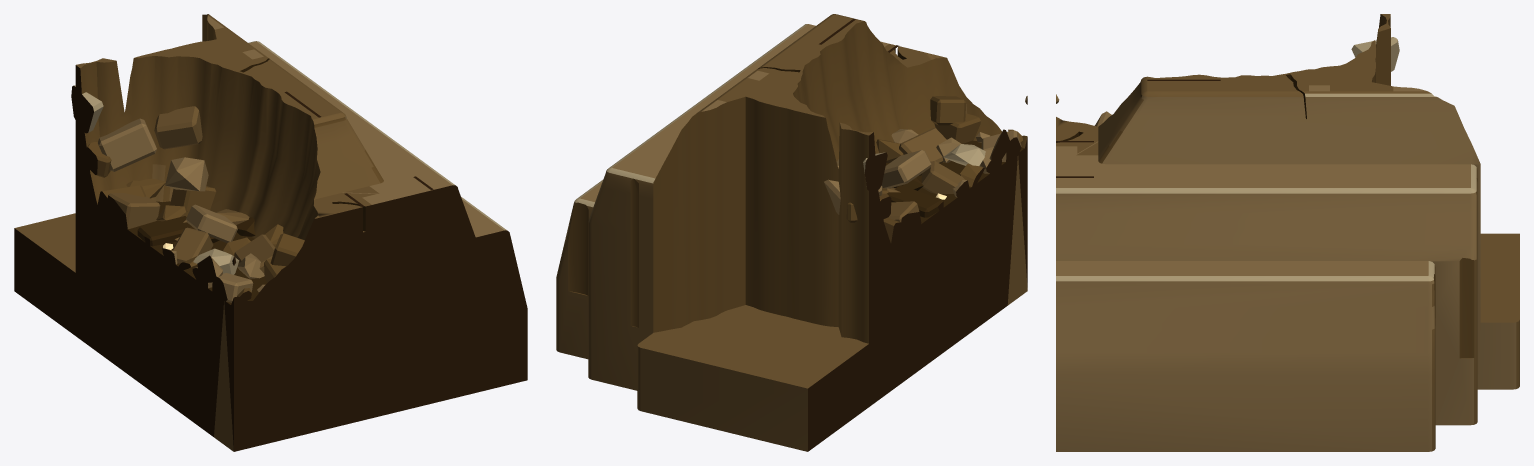
Rendered from pyramid_155_wreck.glb.
3 views of the same model, side by side, from view 1: azimuth 30°, elevation 25°; view 2: azimuth 150°, elevation 25°; view 3: azimuth 270°, elevation 25° (orthographic). The views are drawn at different scales.
Visible parts, largest first — view 1: level0.001, tumbled3.001, tumbled6.001, heap32.001, heap64.001, heap66.001, heap33.001, heap48.001, tumbled2.001, heap61.001, heap63.001, heap43.001 (+5 smaller); view 2: level0.001, heap66.001, heap48.001, heap61.001, heap33.001, heap67.001, heap42.001, heap32.001, heap62.001, heap63.001, heap31.001, tumbled2.001; view 3: level0.001.
Boxes of the visible parts, bbox=[...] form: level0.001: bbox=[14, 14, 527, 451]; tumbled3.001: bbox=[98, 118, 156, 171]; tumbled6.001: bbox=[154, 106, 202, 149]; heap32.001: bbox=[107, 193, 160, 230]; heap64.001: bbox=[165, 157, 208, 191]; heap66.001: bbox=[186, 204, 237, 242]; heap33.001: bbox=[137, 216, 195, 254]; heap48.001: bbox=[270, 233, 320, 279]; tumbled2.001: bbox=[71, 85, 103, 133]; heap61.001: bbox=[169, 227, 213, 263]; heap63.001: bbox=[212, 273, 253, 302]; heap43.001: bbox=[170, 186, 216, 210]; level0.001: bbox=[556, 14, 1027, 451]; heap66.001: bbox=[881, 150, 931, 188]; heap48.001: bbox=[930, 96, 966, 125]; heap61.001: bbox=[921, 161, 965, 193]; heap33.001: bbox=[887, 185, 943, 217]; heap67.001: bbox=[899, 128, 946, 163]; heap42.001: bbox=[934, 113, 980, 143]; heap32.001: bbox=[888, 201, 921, 240]; heap62.001: bbox=[943, 144, 985, 165]; heap63.001: bbox=[981, 130, 1021, 163]; heap31.001: bbox=[883, 217, 909, 251]; tumbled2.001: bbox=[863, 152, 887, 191]; level0.001: bbox=[1056, 14, 1519, 451].
Size of the model in its own units: 17 by 15.02 by 22.
